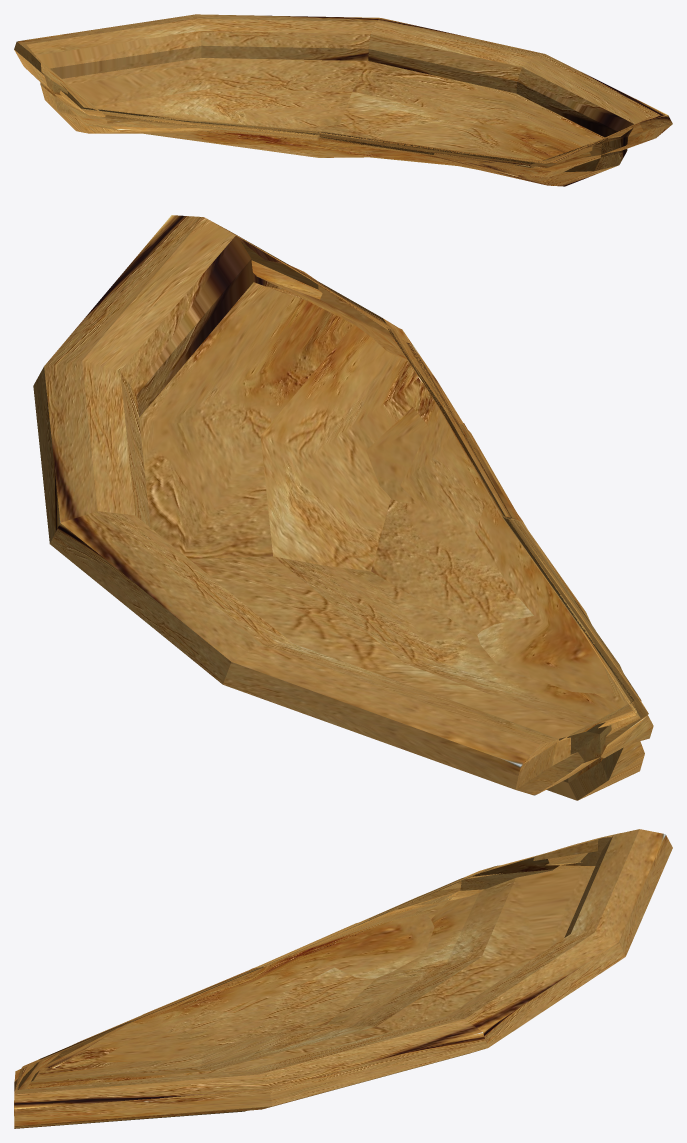
Rendered from sugarpoly2.gltf.
3 renders of one model, top to bottom at view 1: azimuth 30°, elevation 25°; view 2: azimuth 150°, elevation 25°; view 3: azimuth 270°, elevation 25°, orthographic. The views are drawn at different scales.
Visible parts, largest first — view 1: 평면; view 2: 평면; view 3: 평면.
Part boxes in pixels (x1=…): 평면: x1=14, y1=14, x2=672, y2=186; 평면: x1=33, y1=215, x2=653, y2=800; 평면: x1=14, y1=829, x2=672, y2=1128.
Size of the model in its own units: 0.831 by 0.1 by 0.8284.
1 material, 1 textured.
